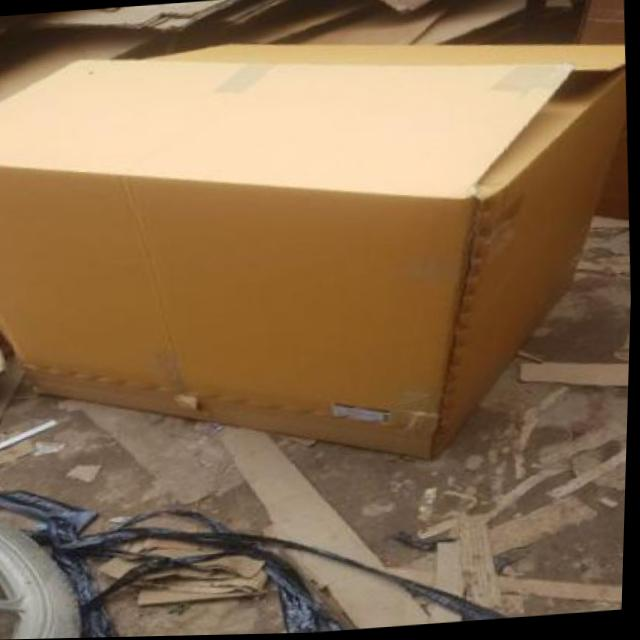box: (0, 20, 639, 491)
